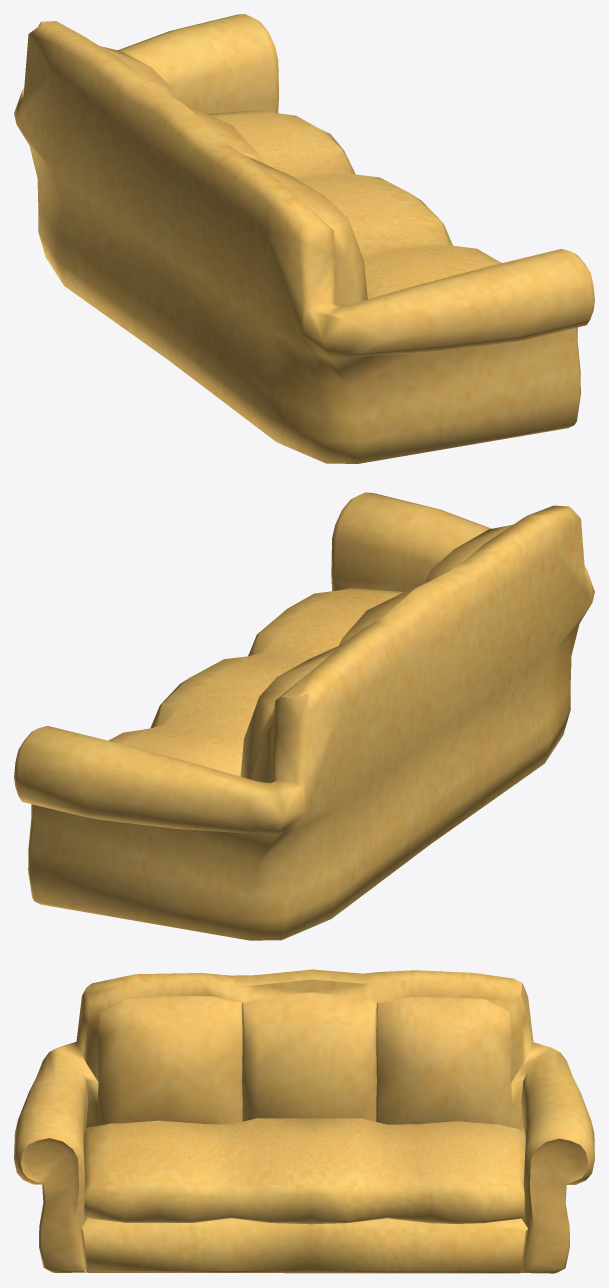
Rendered from sillon.obj.
3 renders of one model, top to bottom at view 1: azimuth 30°, elevation 25°; view 2: azimuth 150°, elevation 25°; view 3: azimuth 270°, elevation 25°, orthographic. The views are drawn at different scales.
Visible parts, largest first — view 1: initialShadingGroupMesh1; view 2: initialShadingGroupMesh1; view 3: initialShadingGroupMesh1.
Boxes of the visible parts, x1=… form: initialShadingGroupMesh1: x1=14, y1=14, x2=594, y2=463; initialShadingGroupMesh1: x1=14, y1=492, x2=594, y2=940; initialShadingGroupMesh1: x1=14, y1=969, x2=594, y2=1273.
Size of the model in its own units: 1.44 by 1.34 by 3.37.
Materials: 1 (1 with a texture image).
